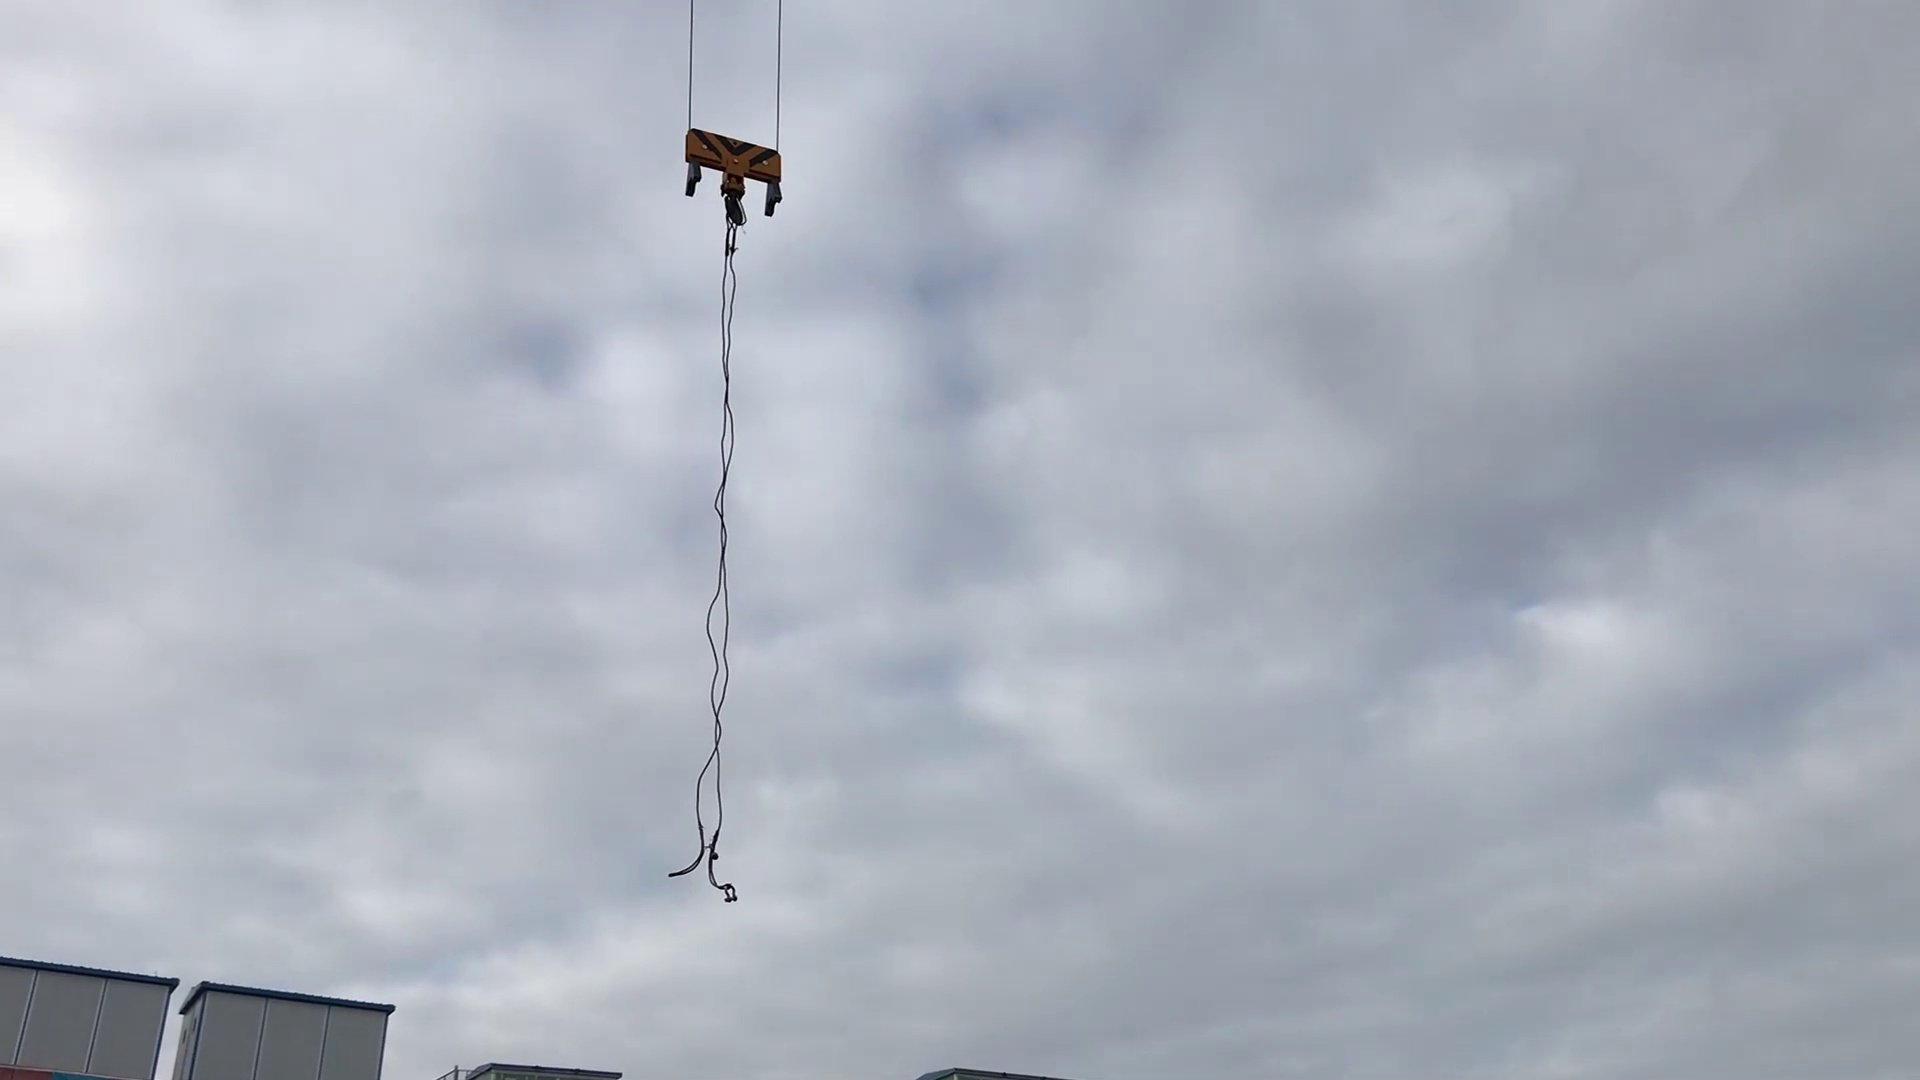hook: (680, 124, 789, 228)
